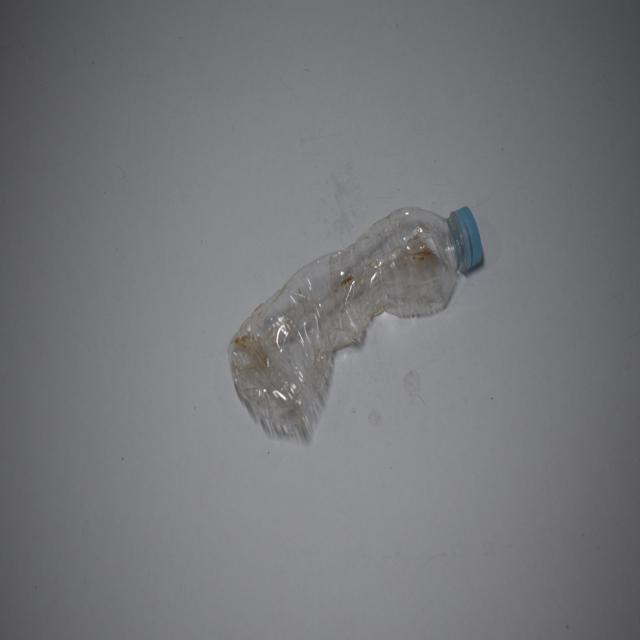empty: (228, 208, 482, 440)
